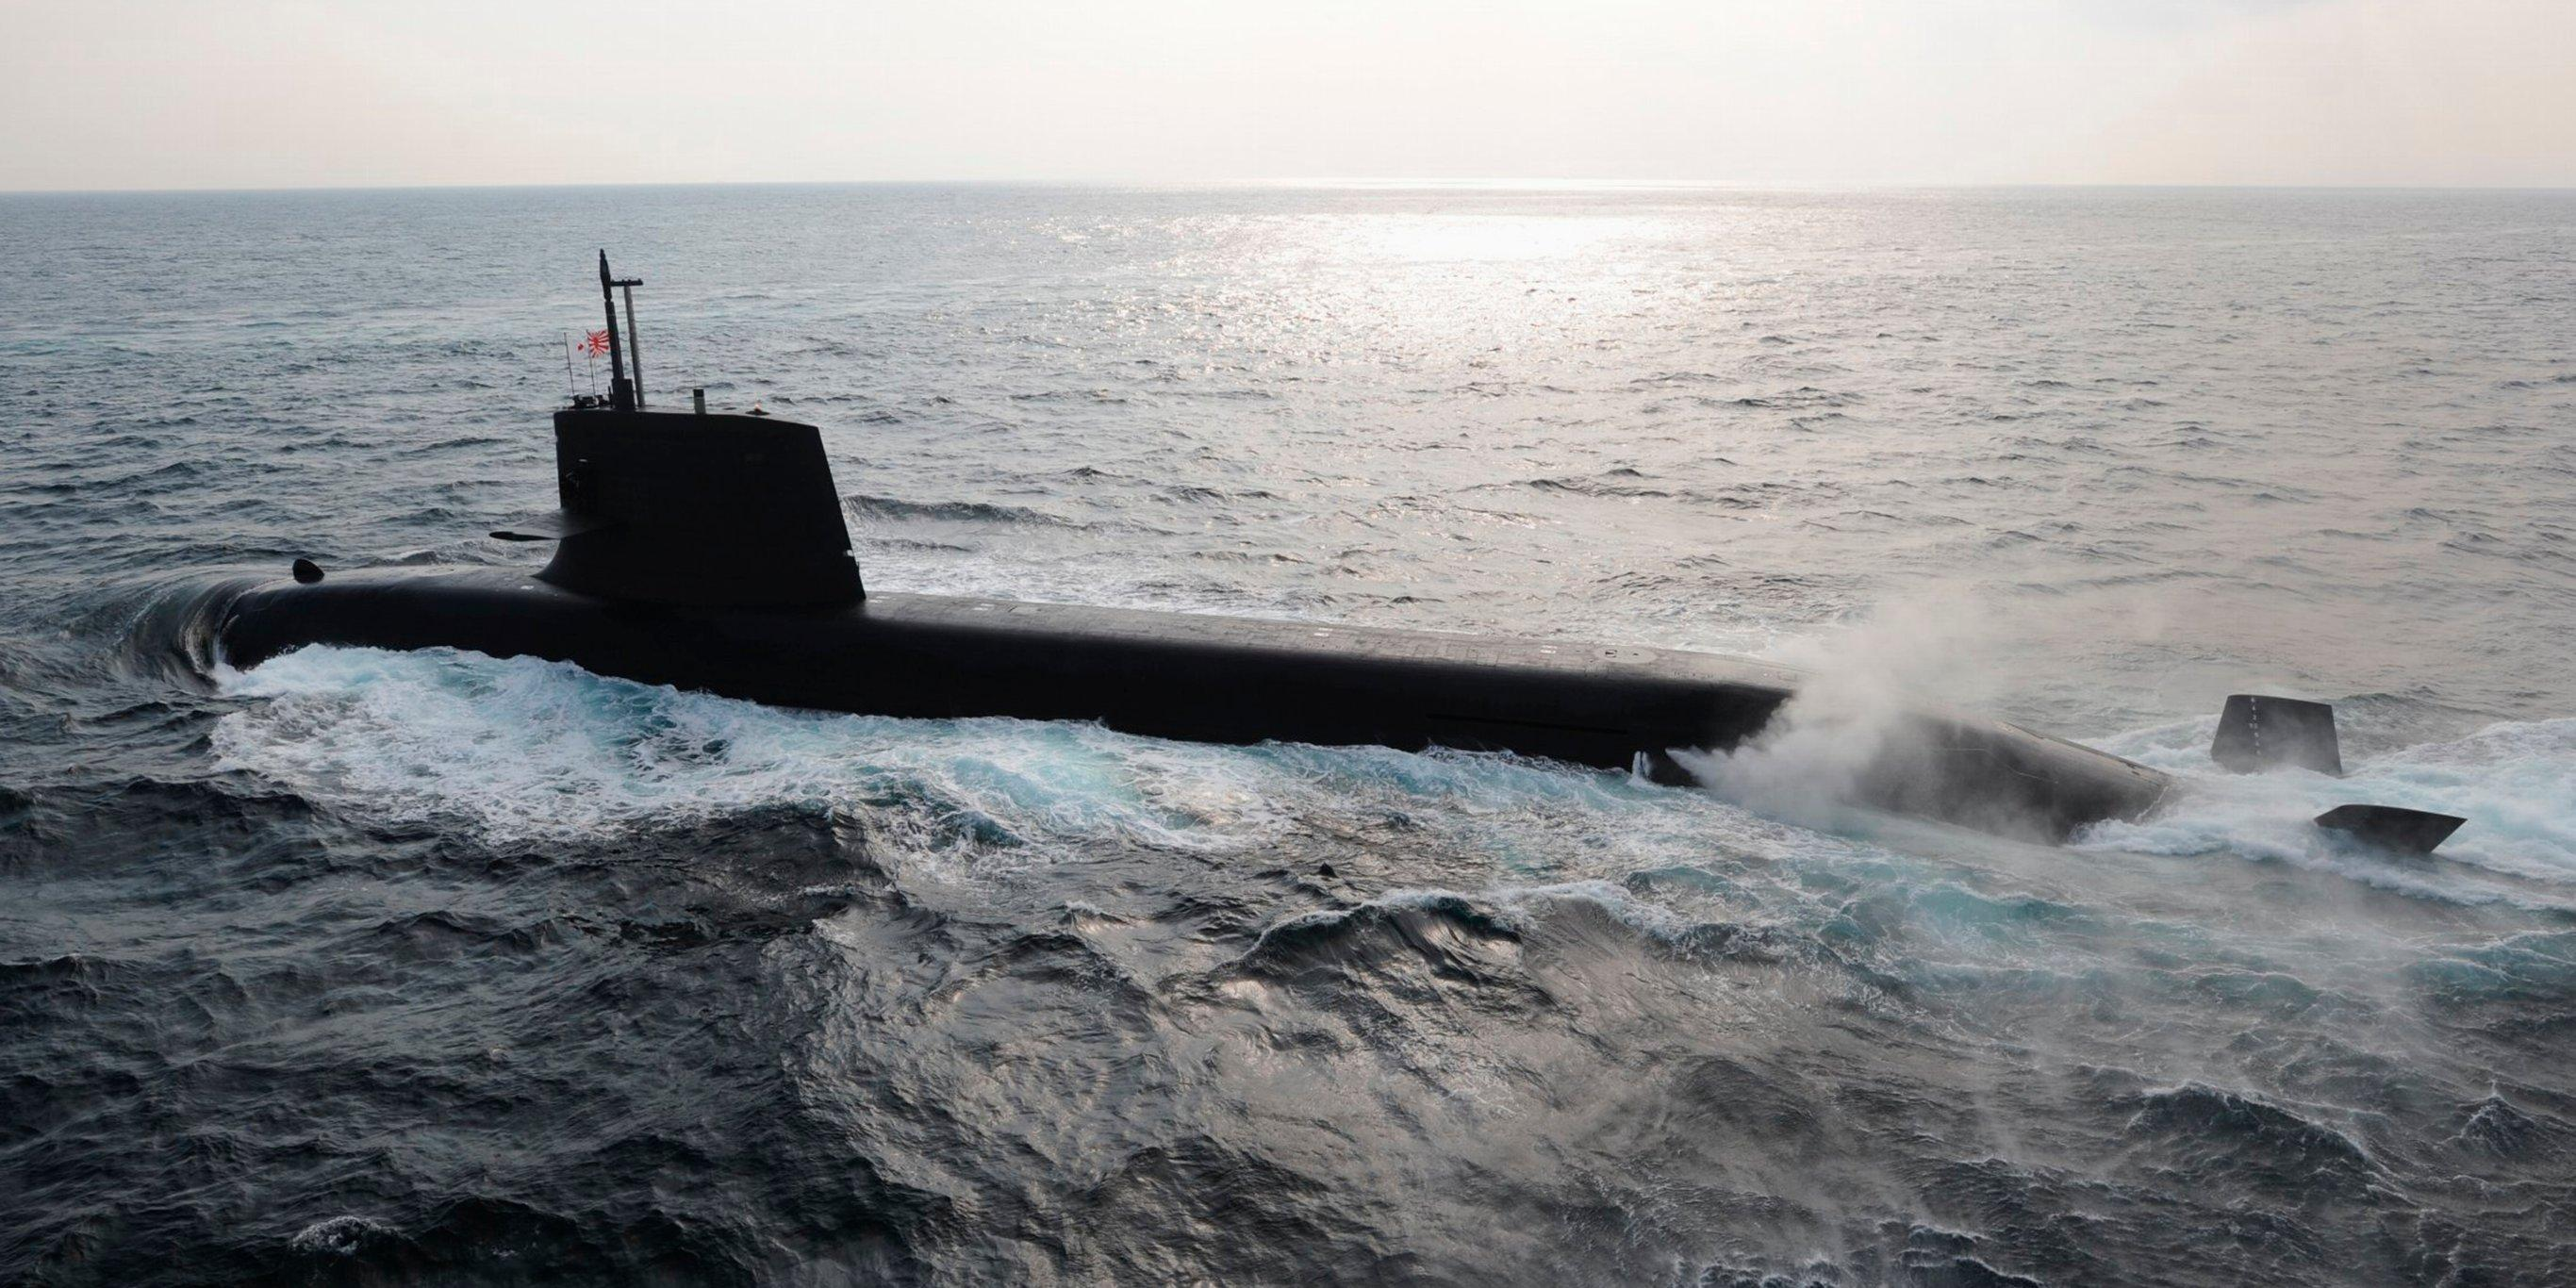Submarine: (69, 163, 2576, 1216)
